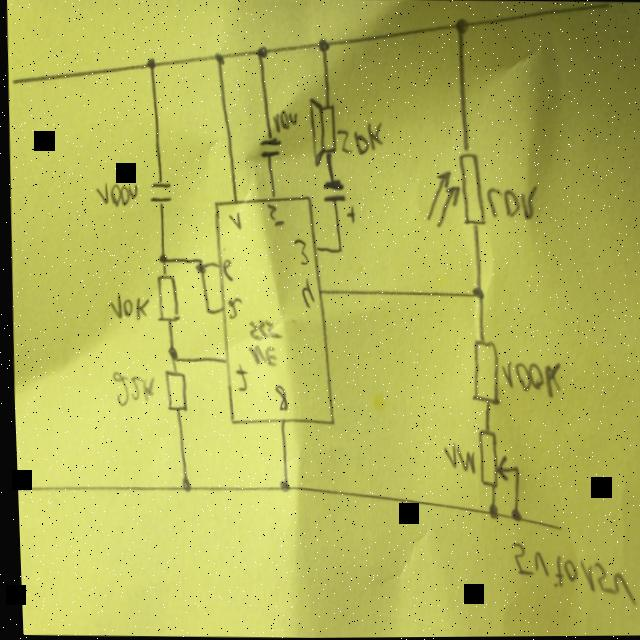capacitor: (319, 177, 354, 224), (145, 177, 170, 205), (256, 135, 280, 159)
junction: (452, 17, 468, 35), (191, 256, 204, 274), (481, 503, 494, 521), (252, 44, 266, 60), (315, 37, 329, 53), (467, 285, 481, 301), (163, 344, 175, 362), (504, 507, 516, 523), (175, 475, 186, 492), (272, 478, 285, 492), (143, 57, 155, 70), (211, 51, 223, 64), (154, 252, 165, 264), (200, 306, 208, 316), (332, 246, 340, 254)
resistor: (420, 146, 484, 230), (471, 427, 516, 492), (465, 337, 497, 407), (151, 273, 177, 323), (158, 368, 184, 413)
terminal: (7, 74, 19, 86), (550, 524, 559, 534), (600, 2, 610, 10), (14, 482, 19, 494)
text: (504, 541, 631, 607), (496, 360, 561, 399), (481, 183, 537, 222), (241, 318, 280, 369), (332, 120, 382, 157), (106, 370, 153, 407), (103, 291, 147, 322), (91, 180, 135, 208), (437, 442, 472, 476), (269, 109, 296, 133), (296, 277, 312, 309), (263, 202, 282, 228), (229, 363, 245, 393), (289, 238, 306, 266), (269, 383, 284, 411), (222, 297, 239, 321), (224, 210, 239, 231), (218, 258, 230, 282)
